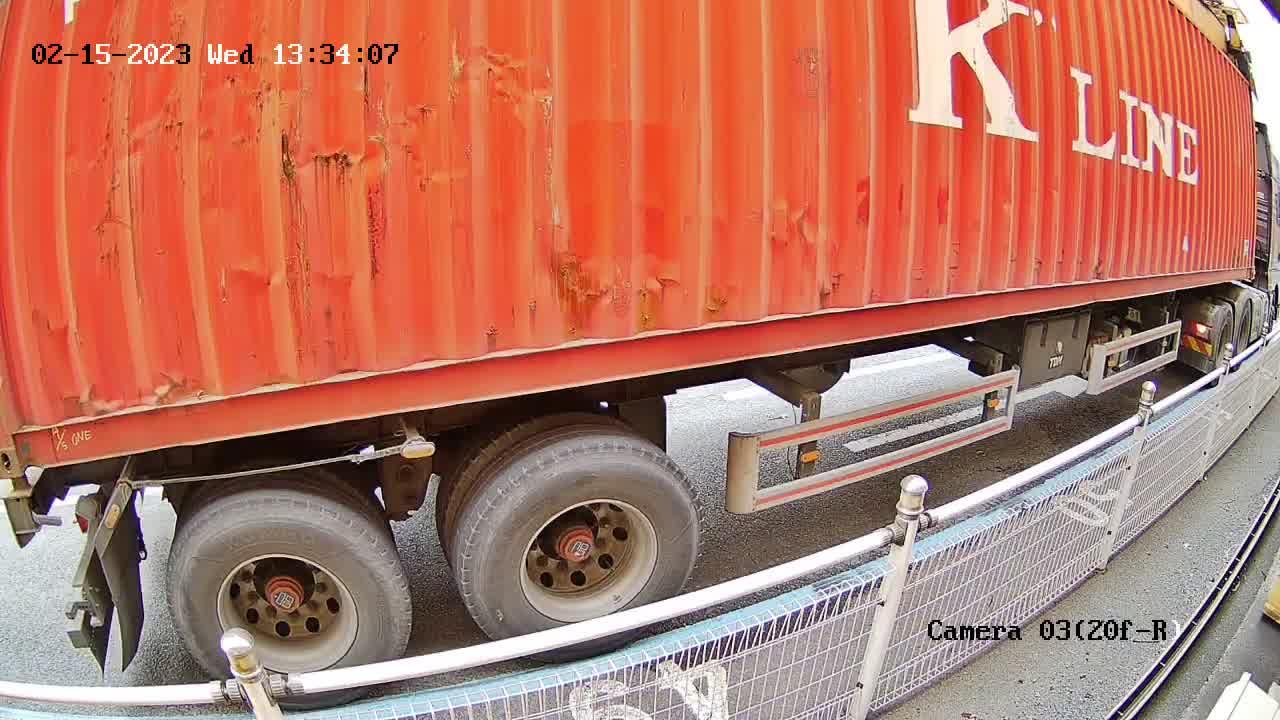Cone: (0, 477, 42, 536)
Hole_L: (1, 399, 62, 478)
Tire: (462, 442, 708, 637), (162, 491, 412, 676)
